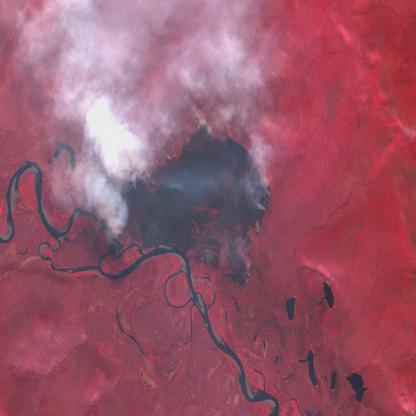fire: (106, 115, 276, 294)
